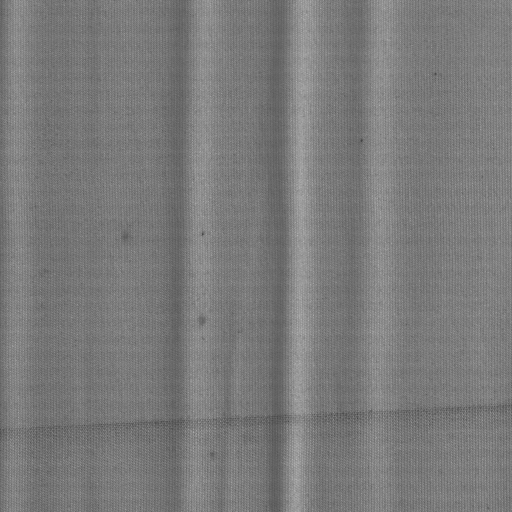defect: (1, 400, 512, 443)
